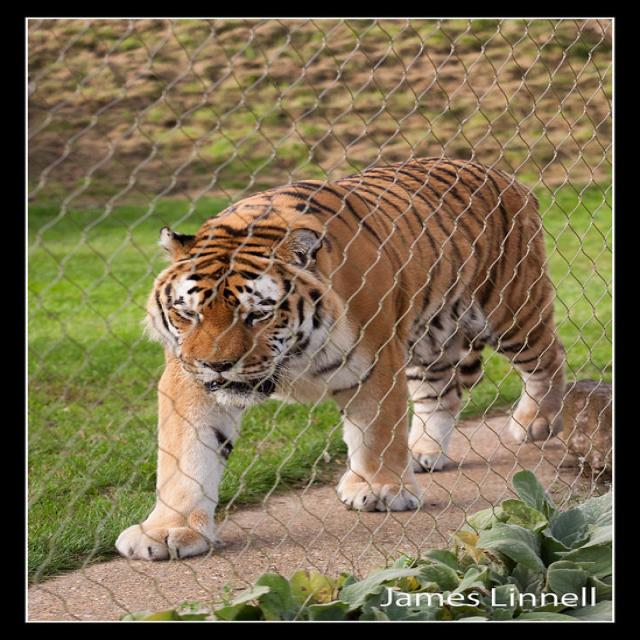Tiger: (113, 155, 572, 562)
